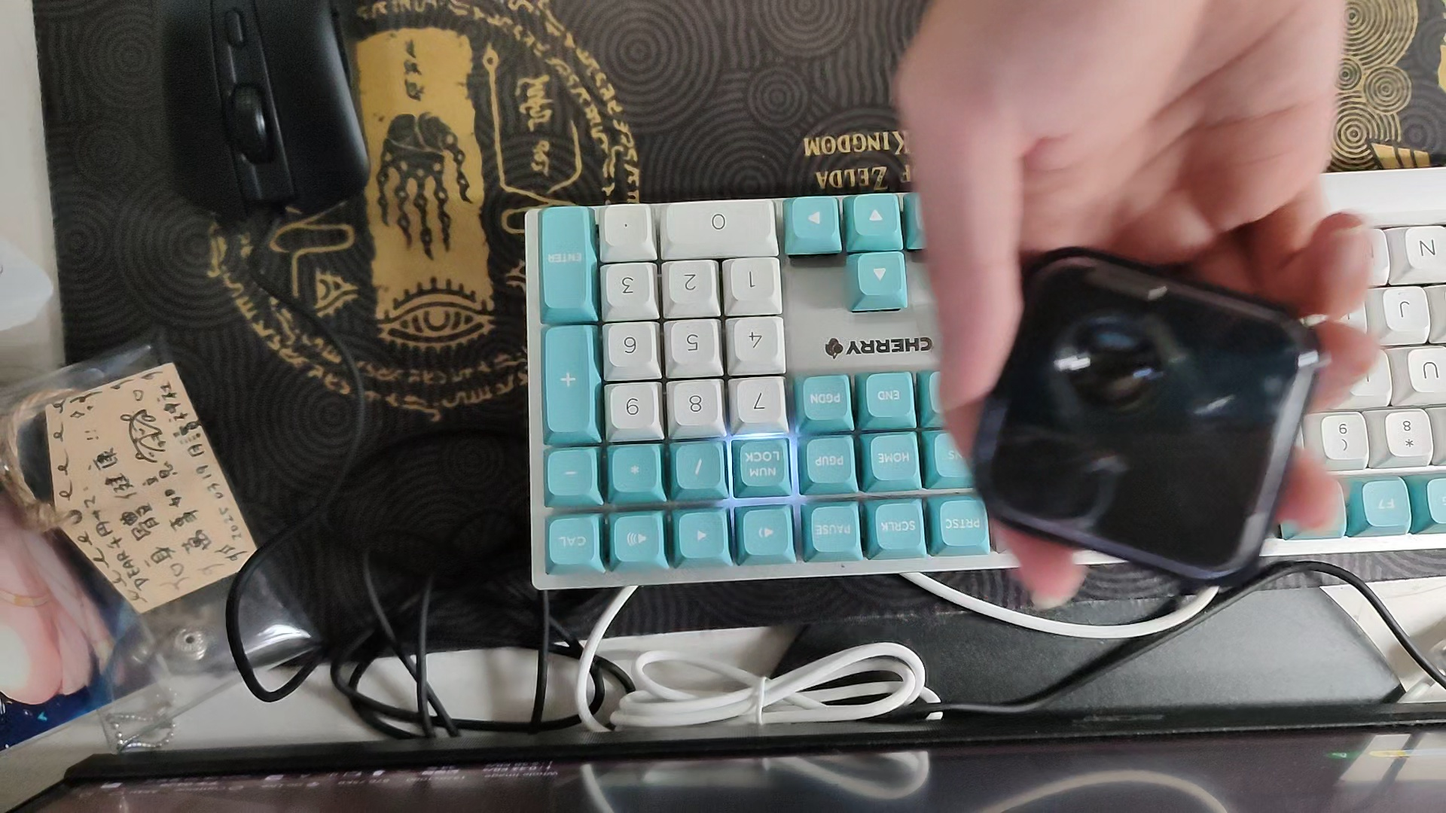Wireless_earphone: (972, 243, 1319, 585)
